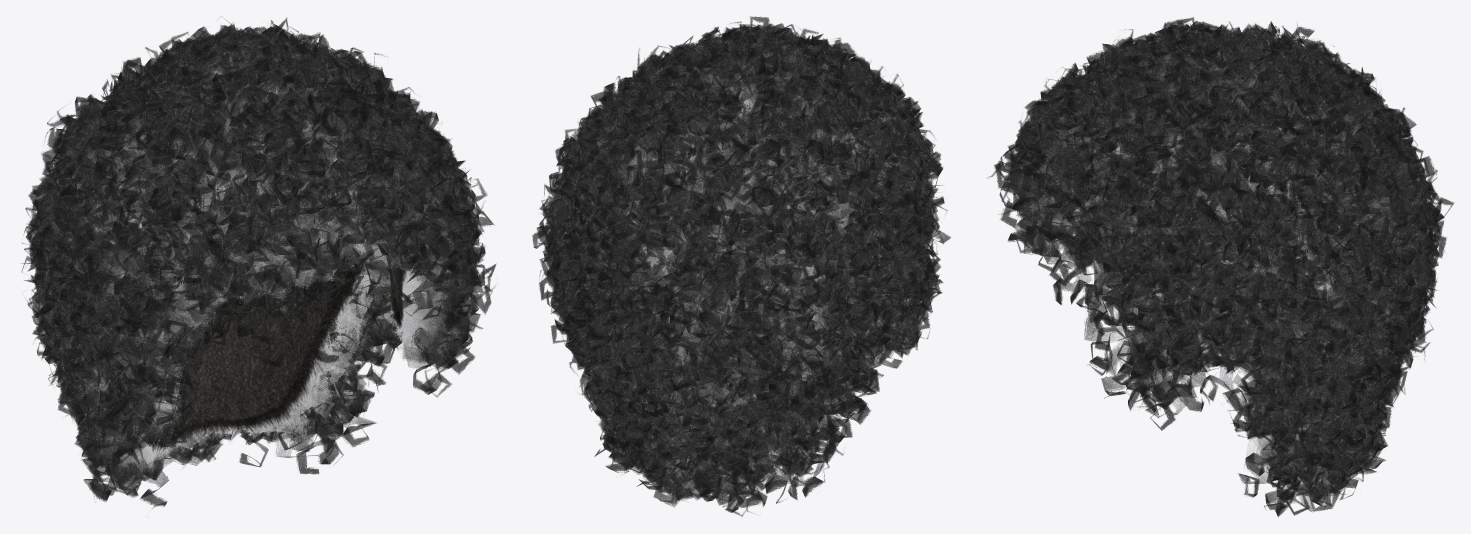
File: curl.glb
3 views of the same model, side by side, from view 1: azimuth 30°, elevation 25°; view 2: azimuth 150°, elevation 25°; view 3: azimuth 270°, elevation 25° (orthographic). The views are drawn at different scales.
Parts seen in each view (by area): view 1: Object_2, Object_3, Object_4; view 2: Object_2, Object_3; view 3: Object_2, Object_3.
Boxes of the visible parts, box(x1,y1,x2,y2) form: Object_2: box(22, 17, 492, 508); Object_3: box(21, 16, 496, 501); Object_4: box(151, 183, 406, 452); Object_2: box(532, 23, 950, 512); Object_3: box(542, 16, 939, 516); Object_2: box(994, 24, 1454, 516); Object_3: box(988, 17, 1444, 515).
Bounding box in the file's own units: 25.12 × 29.91 × 27.55.
2 materials, 2 textured.
